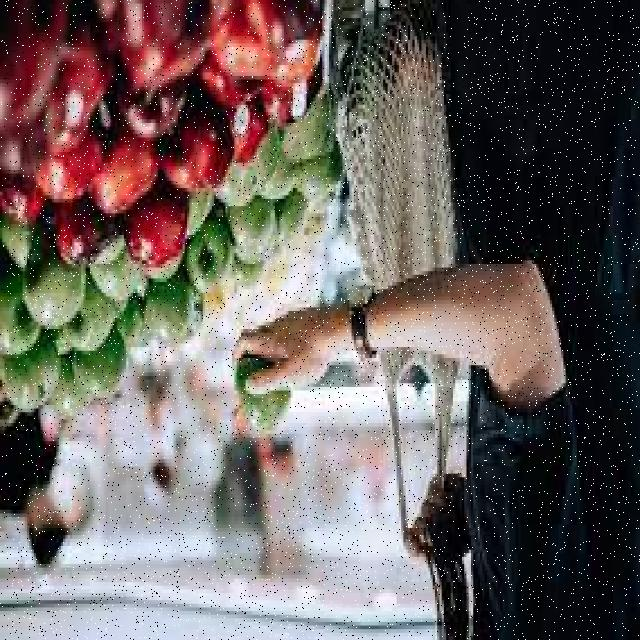Apple: (161, 111, 230, 201), (122, 182, 188, 270), (93, 124, 155, 216), (21, 240, 85, 326), (231, 353, 289, 433), (32, 133, 93, 207), (72, 327, 128, 404), (1, 343, 60, 414), (264, 73, 325, 138), (180, 224, 230, 296), (55, 207, 113, 267), (0, 280, 40, 358), (67, 296, 115, 356), (232, 192, 278, 252), (144, 296, 193, 348), (232, 96, 269, 158), (0, 179, 38, 228), (116, 298, 147, 349)
